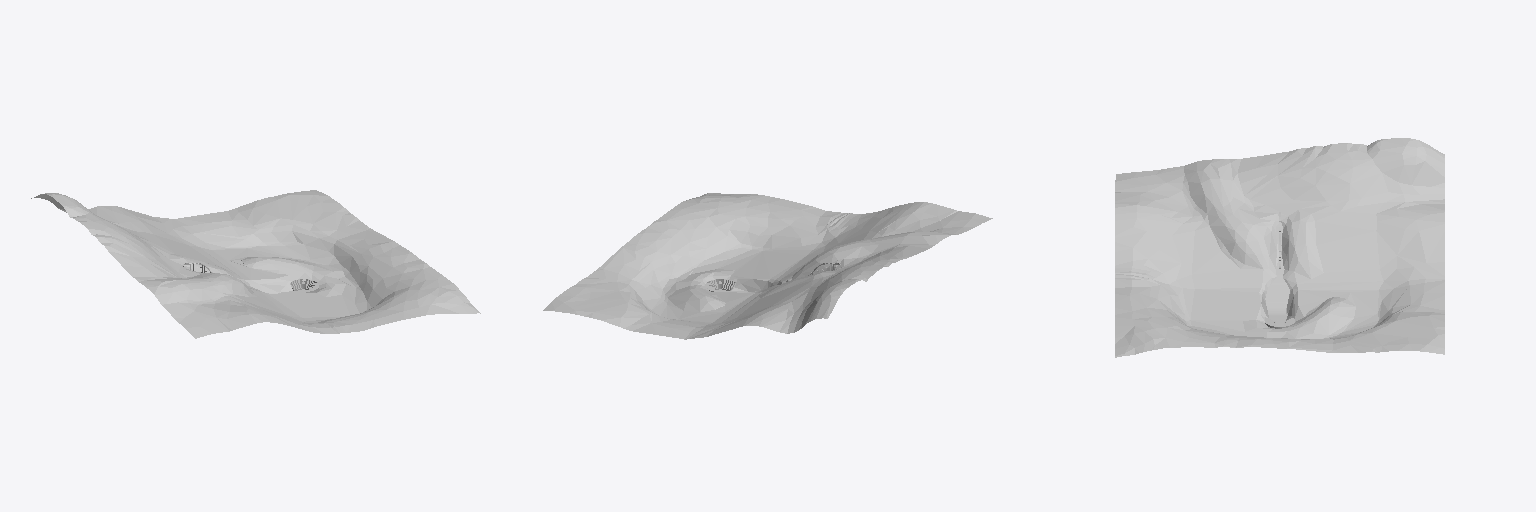
3 renders of one model, left to right at view 1: azimuth 30°, elevation 25°; view 2: azimuth 150°, elevation 25°; view 3: azimuth 270°, elevation 25°, orthographic.
Parts seen in each view (by area): view 1: BezierCurve.003_Mesh.026; view 2: BezierCurve.003_Mesh.026; view 3: BezierCurve.003_Mesh.026.
Boxes of the visible parts, x1,y1,x2,y2 form: BezierCurve.003_Mesh.026: [31, 190, 480, 338]; BezierCurve.003_Mesh.026: [543, 193, 992, 339]; BezierCurve.003_Mesh.026: [1115, 138, 1444, 357].
Bounding box in the file's own units: 1001 × 326 × 1000.